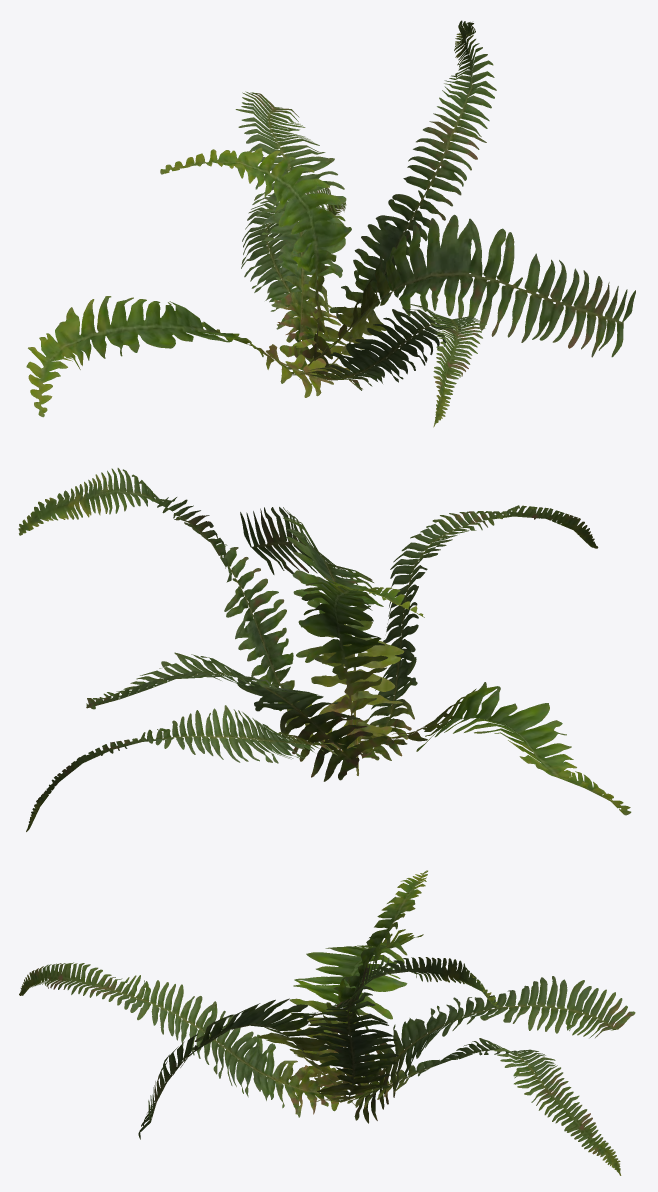
The model's file is fern.glb.
3 renders of one model, top to bottom at view 1: azimuth 30°, elevation 25°; view 2: azimuth 150°, elevation 25°; view 3: azimuth 270°, elevation 25°, orthographic. The views are drawn at different scales.
Visible parts, largest first — view 1: fern_02_a; view 2: fern_02_a; view 3: fern_02_a.
Boxes of the visible parts, x1,y1,x2,y2 form: fern_02_a: [26, 20, 635, 427]; fern_02_a: [18, 468, 631, 831]; fern_02_a: [19, 870, 635, 1175].
Bounding box in the file's own units: 0.5519 × 0.2868 × 0.6134.
1 material, 1 textured.
